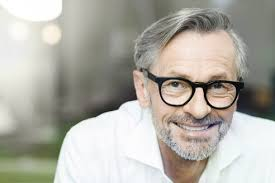Glasses: (144, 66, 244, 110)
